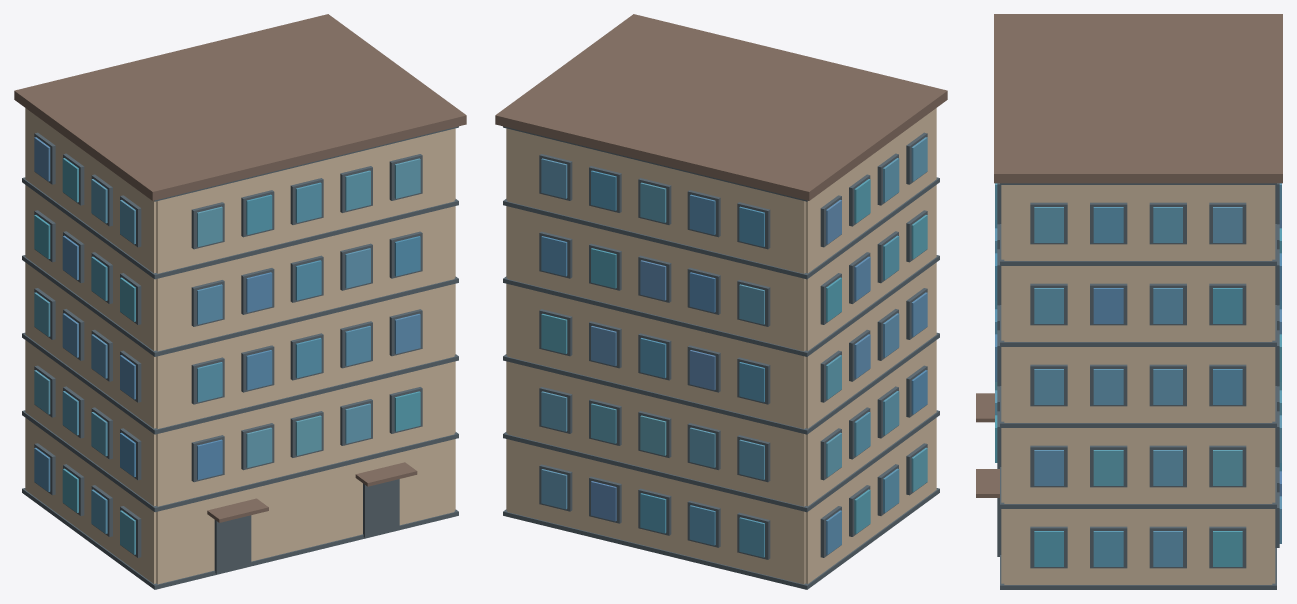
File: apartments.glb
The picture shows the model from 3 angles, left to right: view 1: azimuth 30°, elevation 25°; view 2: azimuth 150°, elevation 25°; view 3: azimuth 270°, elevation 25°; orthographic projection. The views are drawn at different scales.
Visible parts, largest first — view 1: FormLab; view 2: FormLab; view 3: FormLab.
Part boxes in pixels (left/top/right/bottom): FormLab: left=14, top=14, right=466, bottom=589; FormLab: left=495, top=14, right=947, bottom=589; FormLab: left=976, top=14, right=1282, bottom=589.
Bounding box in the file's own units: 12.7 × 15.51 × 10.3.
